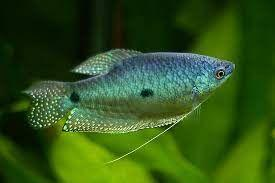Gourami: (23, 49, 237, 165)
